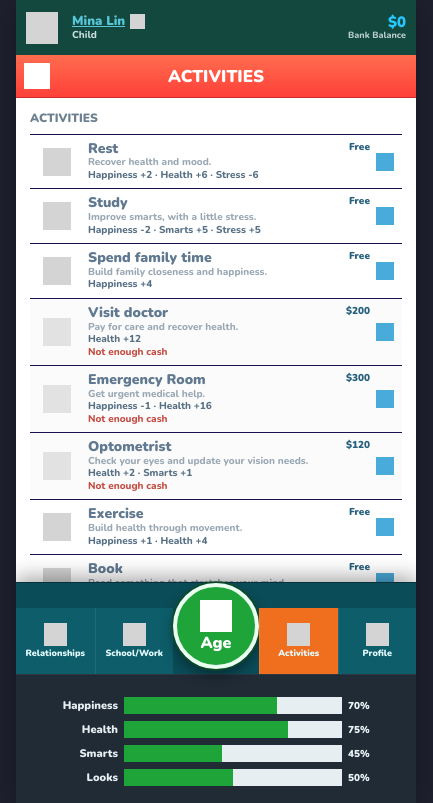
it: App › locks study for the current year after it is used
What coordinates should you click on to do the following:
click the button "Study"
I would click on:
 (216, 217)
Its box is [30, 190, 402, 244].
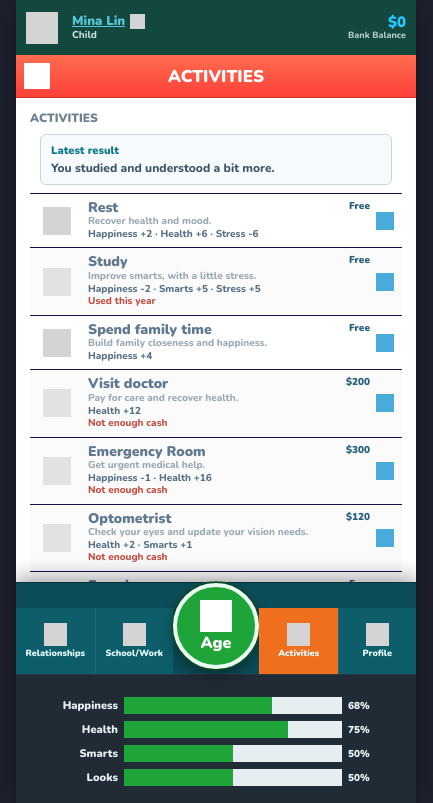
Result: the button "Study" is disabled at [30, 248, 402, 316]
Result: the text "Used this year" is shown at [88, 294, 156, 308]
